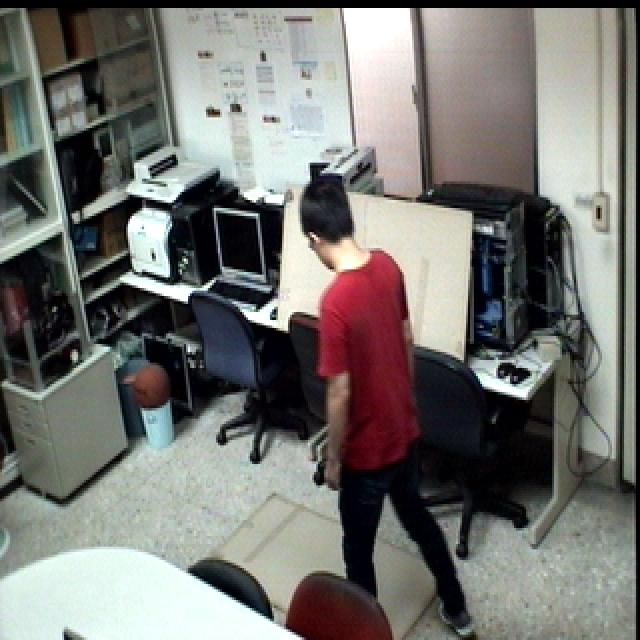stand: (289, 167, 476, 640)
